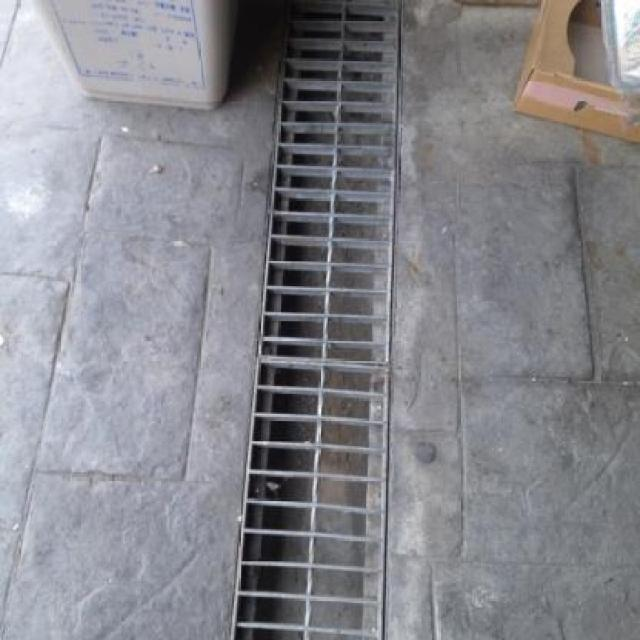drain-clean-: (246, 15, 422, 640)
